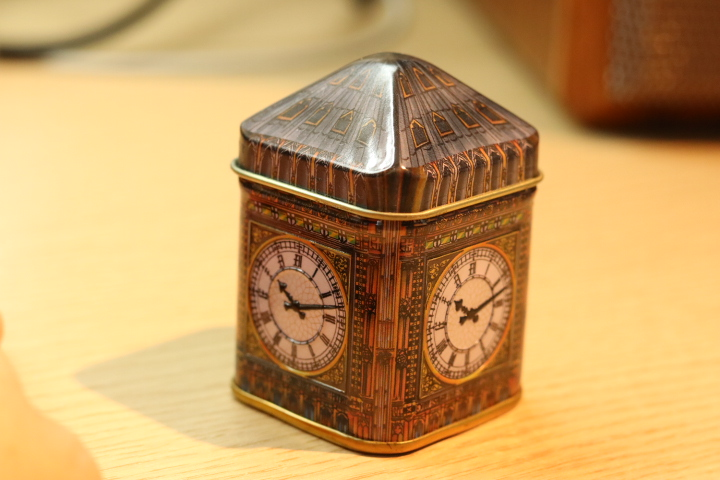Big Ben: (224, 44, 566, 464)
